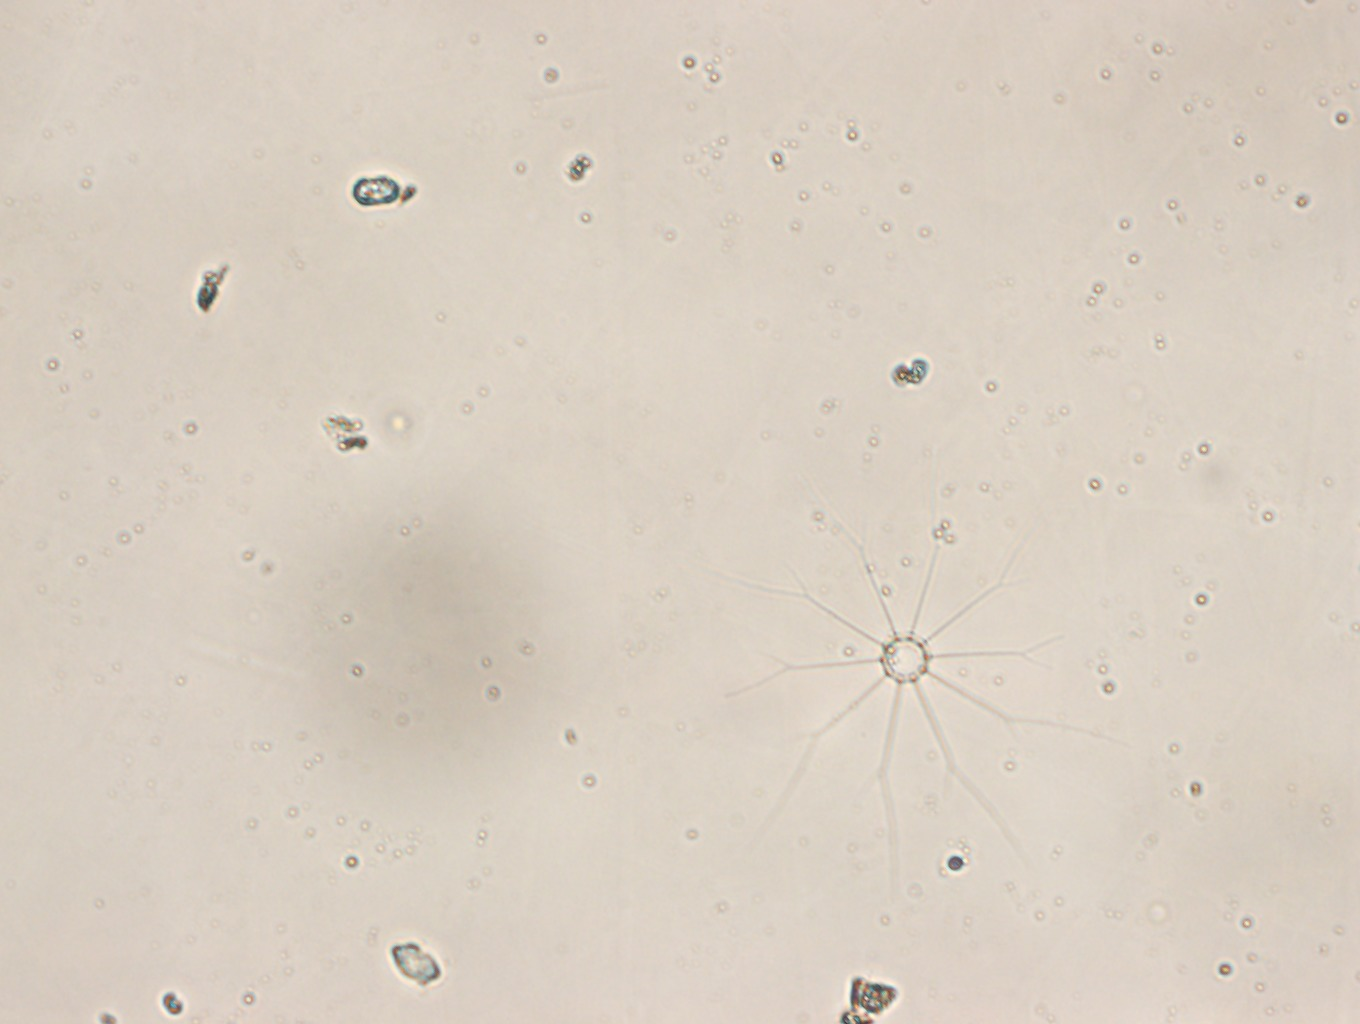bacteriastrum: (718, 488, 1087, 863)
